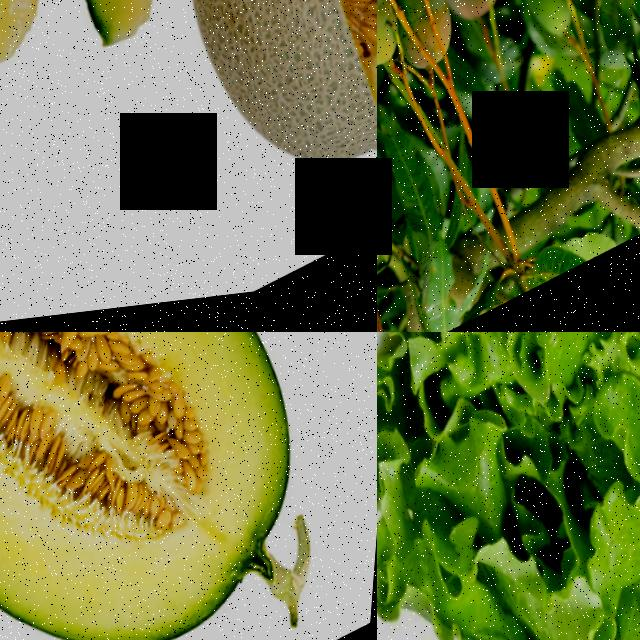lettuce: (377, 332, 640, 640)
mango: (382, 0, 474, 87), (377, 111, 417, 299), (420, 0, 519, 45), (377, 0, 412, 90)
melon: (0, 332, 377, 640), (165, 0, 377, 231), (0, 0, 261, 98)
